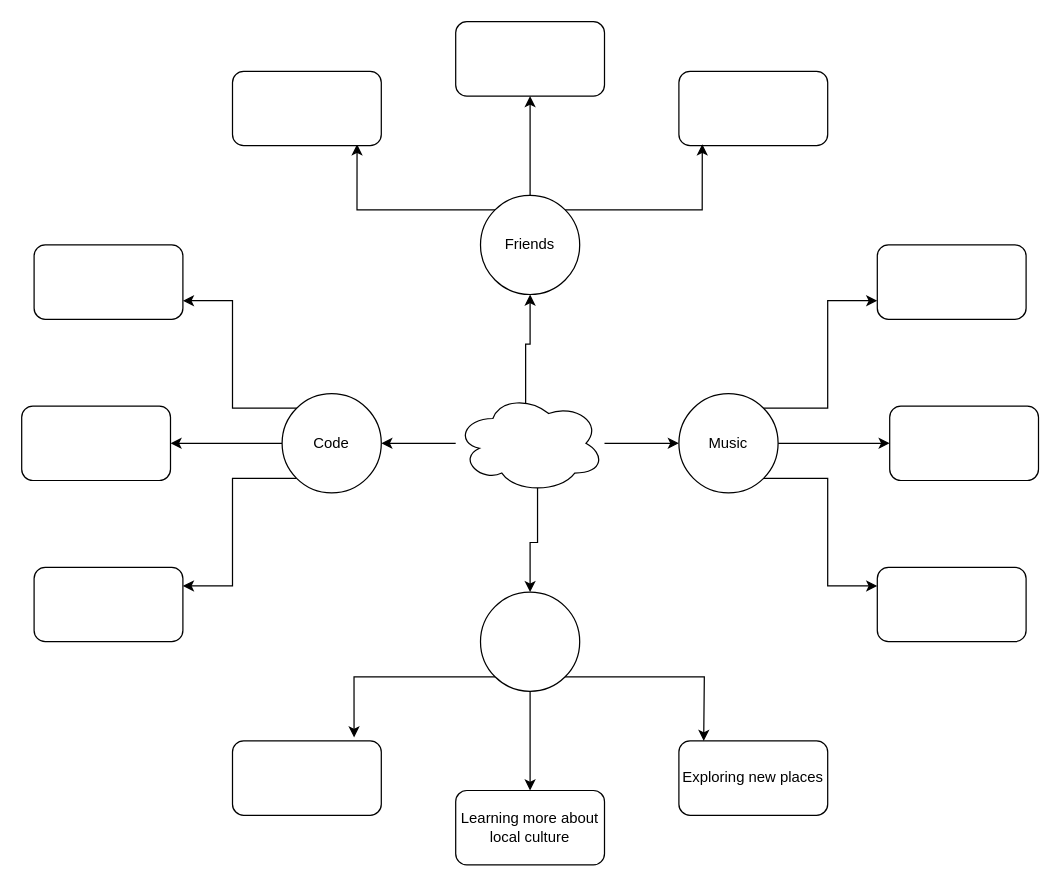
Some shapes in this 1060 by 887 pixel diagram are drawn without their labels. The box of each missing label's shape, as (x1, y1, x2, y2) in pixels:
Aaron: (454, 392, 604, 493)
Travel: (479, 591, 580, 691)
